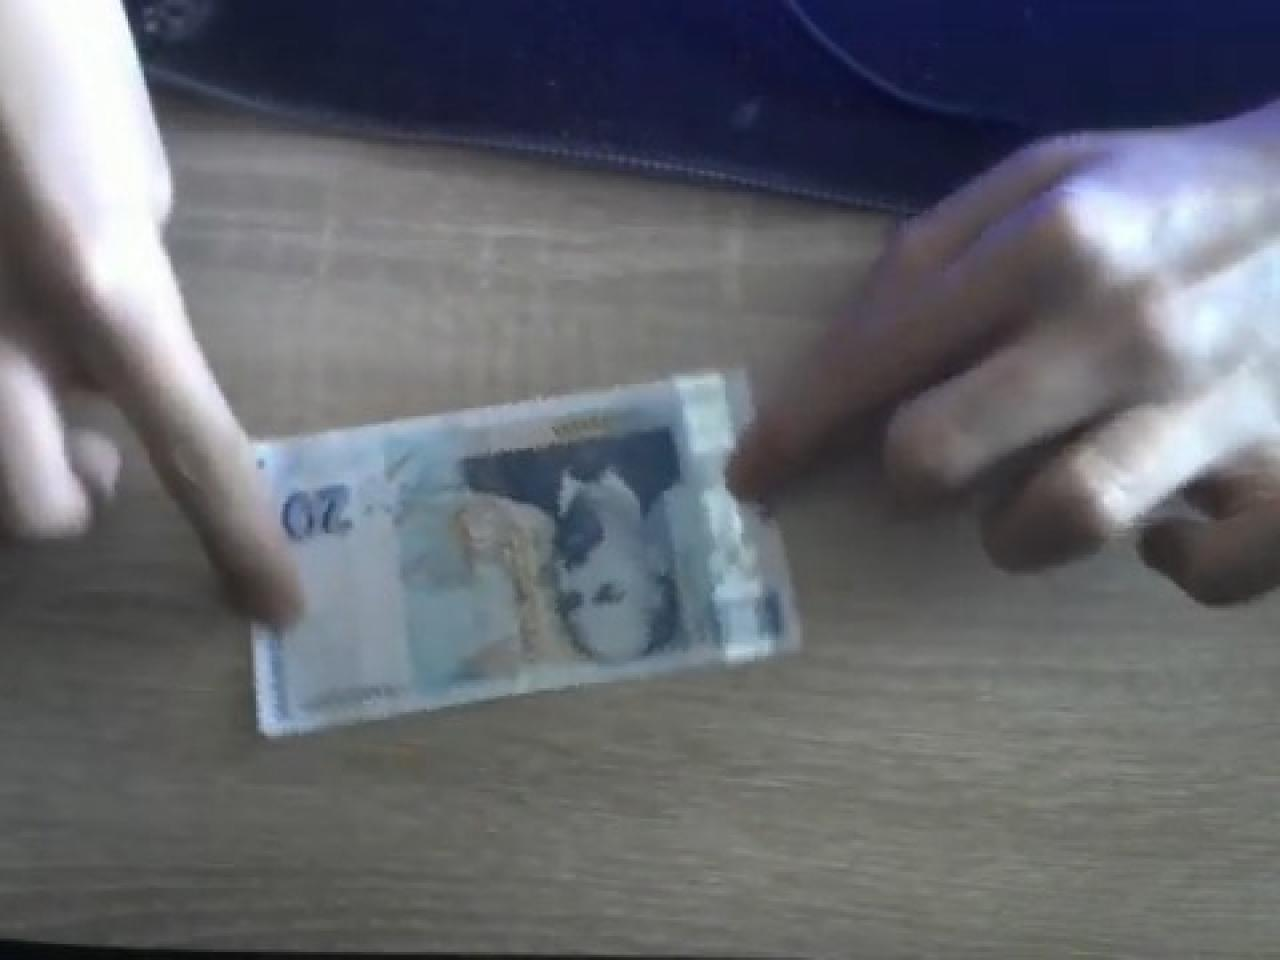20leva: (251, 371, 802, 739)
